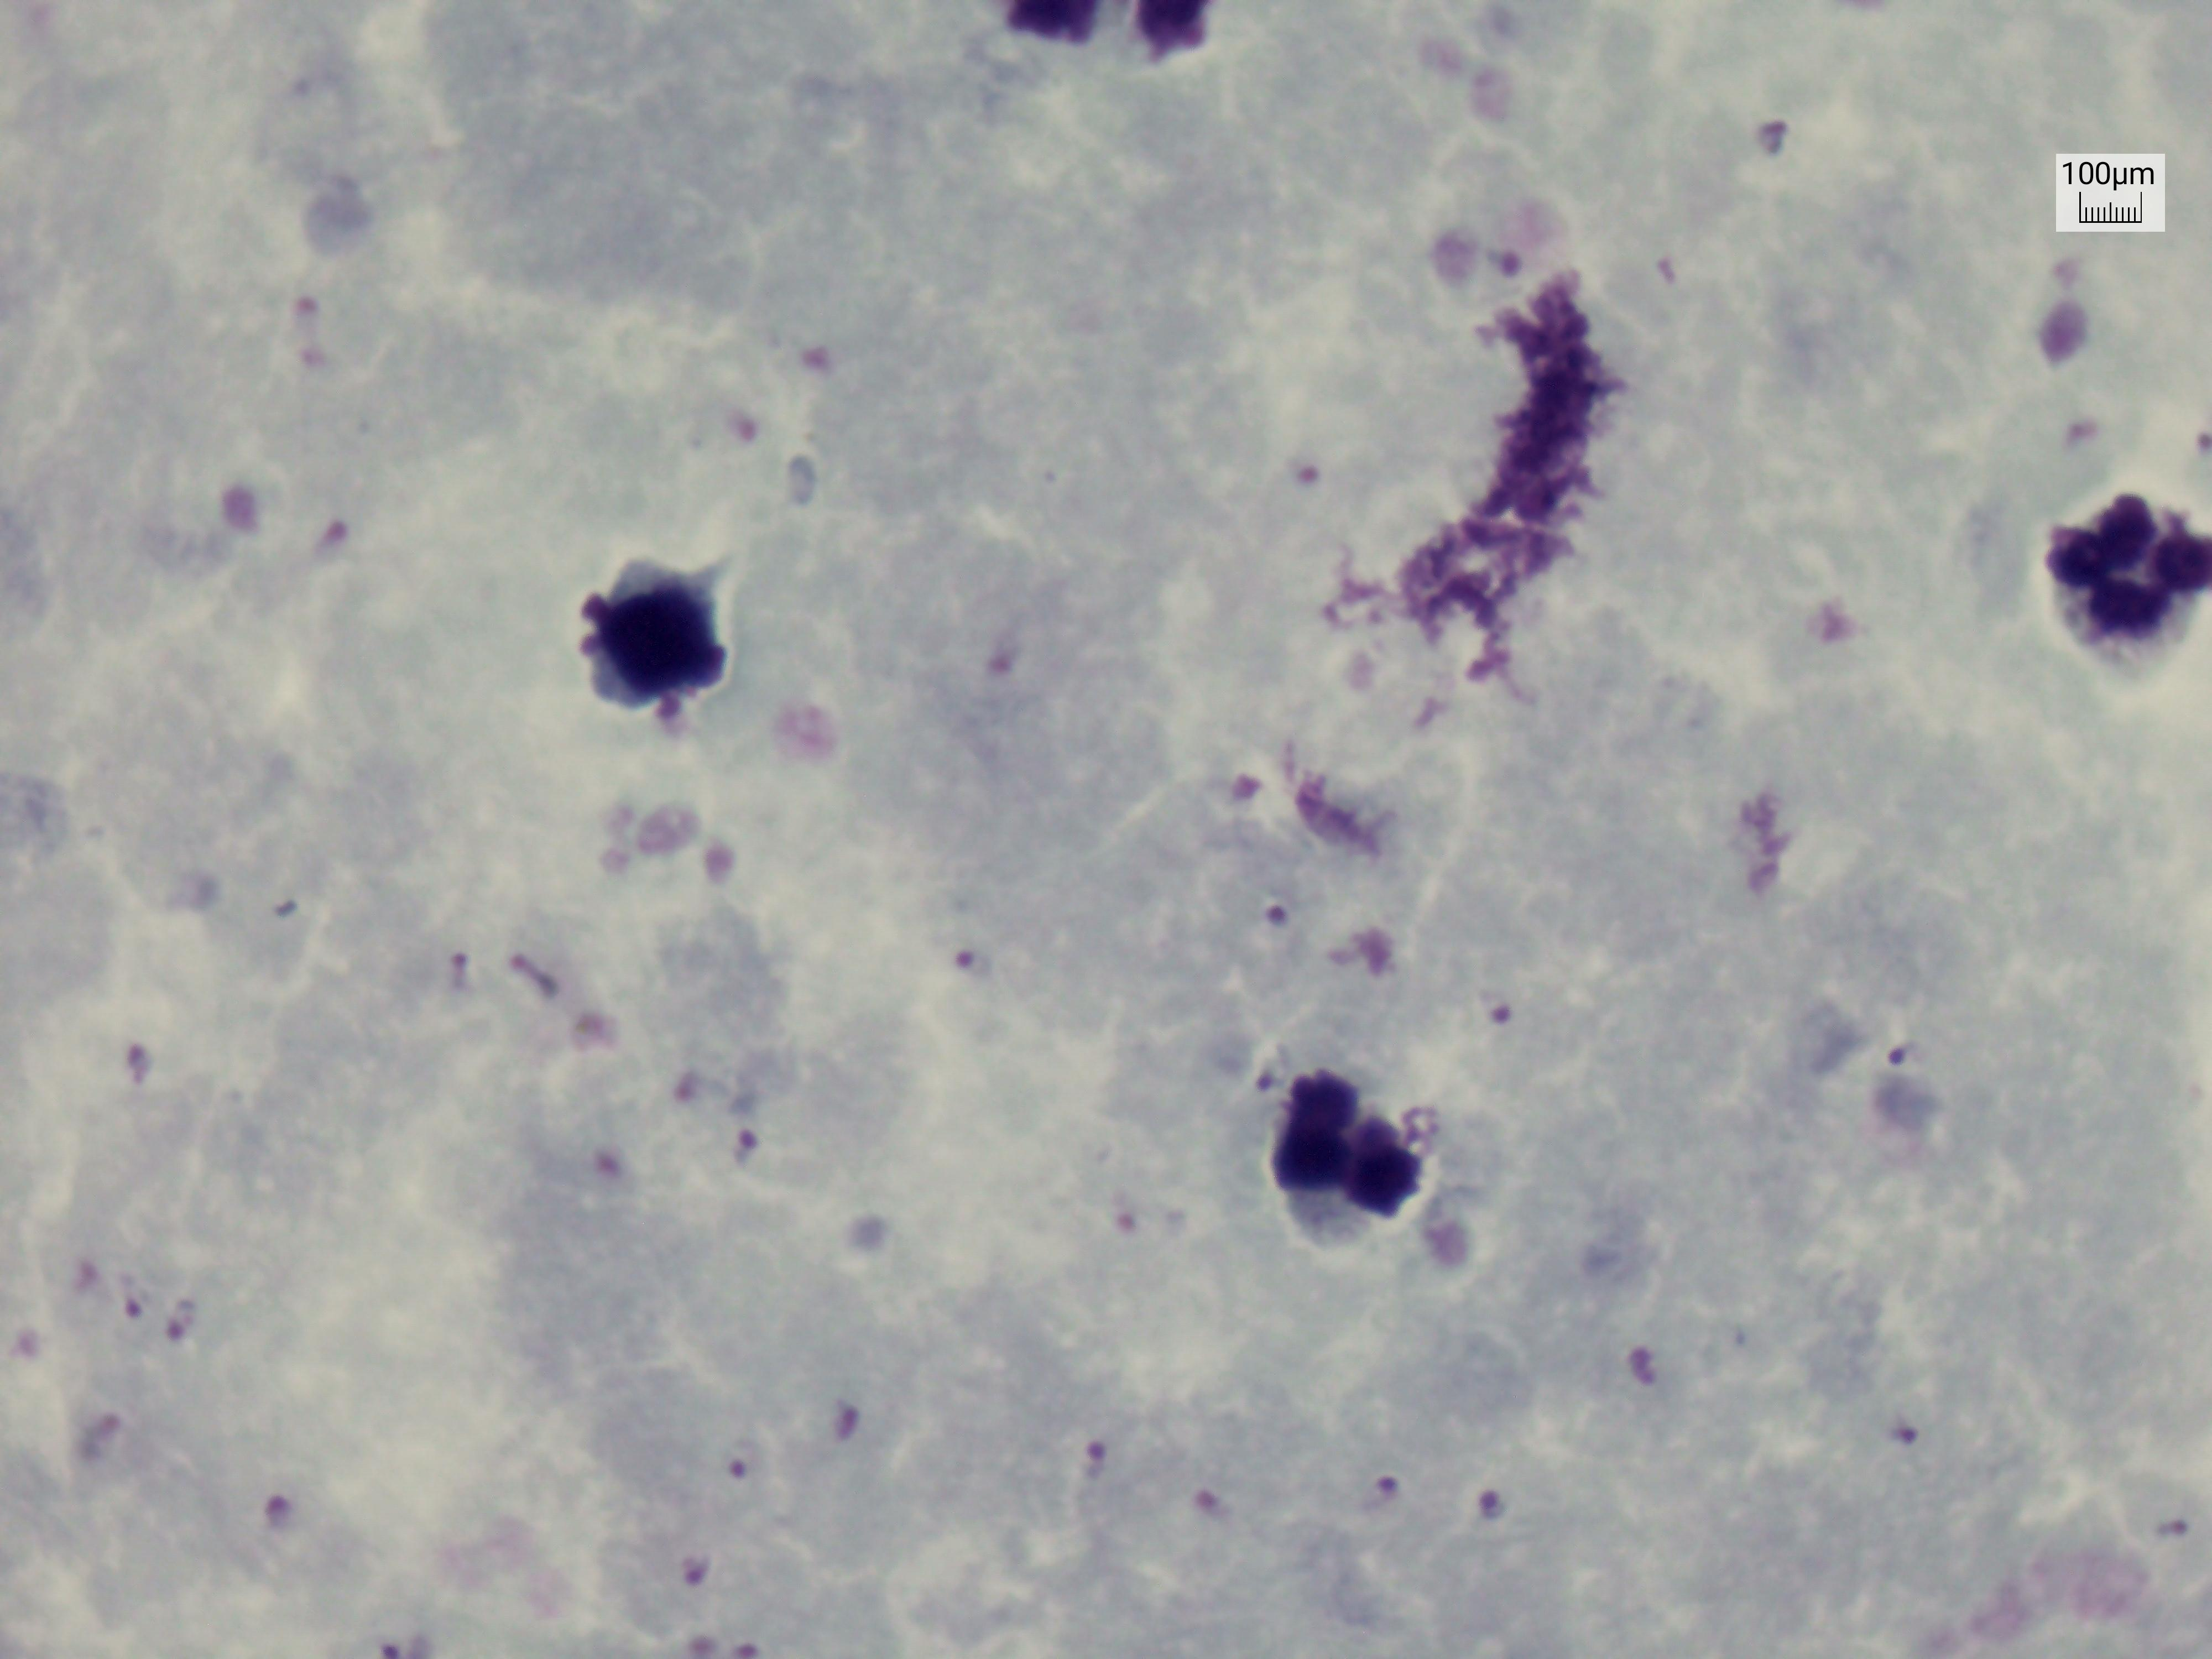p.falciparum: (56, 1253, 212, 1363), (650, 1060, 777, 1166), (277, 253, 345, 385), (1172, 1445, 1275, 1530), (566, 1121, 646, 1223), (1858, 997, 1935, 1093), (498, 927, 575, 1019), (1604, 1323, 1670, 1427), (1435, 1460, 1531, 1528), (942, 917, 1015, 1002), (99, 1023, 172, 1107), (2137, 1488, 2210, 1572), (1474, 216, 1541, 305), (1097, 1190, 1169, 1270), (961, 626, 1038, 699), (246, 1474, 308, 1563), (1468, 969, 1533, 1054), (77, 1394, 141, 1476), (1360, 1450, 1432, 1521), (810, 1389, 876, 1462), (307, 493, 359, 582), (1073, 1417, 1130, 1493), (707, 1419, 754, 1511), (1284, 437, 1338, 518), (1892, 1384, 1939, 1473), (1247, 870, 1298, 948), (258, 880, 317, 945), (1237, 1035, 1294, 1101), (439, 922, 481, 1011), (721, 394, 768, 469), (674, 1535, 719, 1608)
